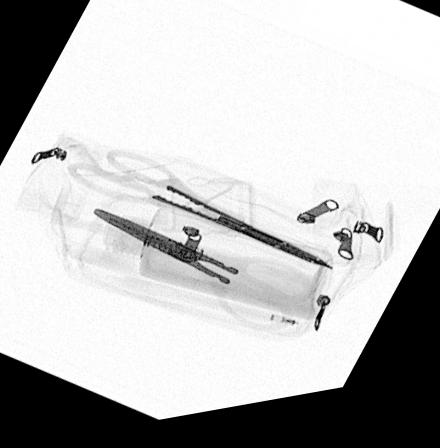Scissors: (64, 150, 337, 281), (89, 207, 313, 343)
